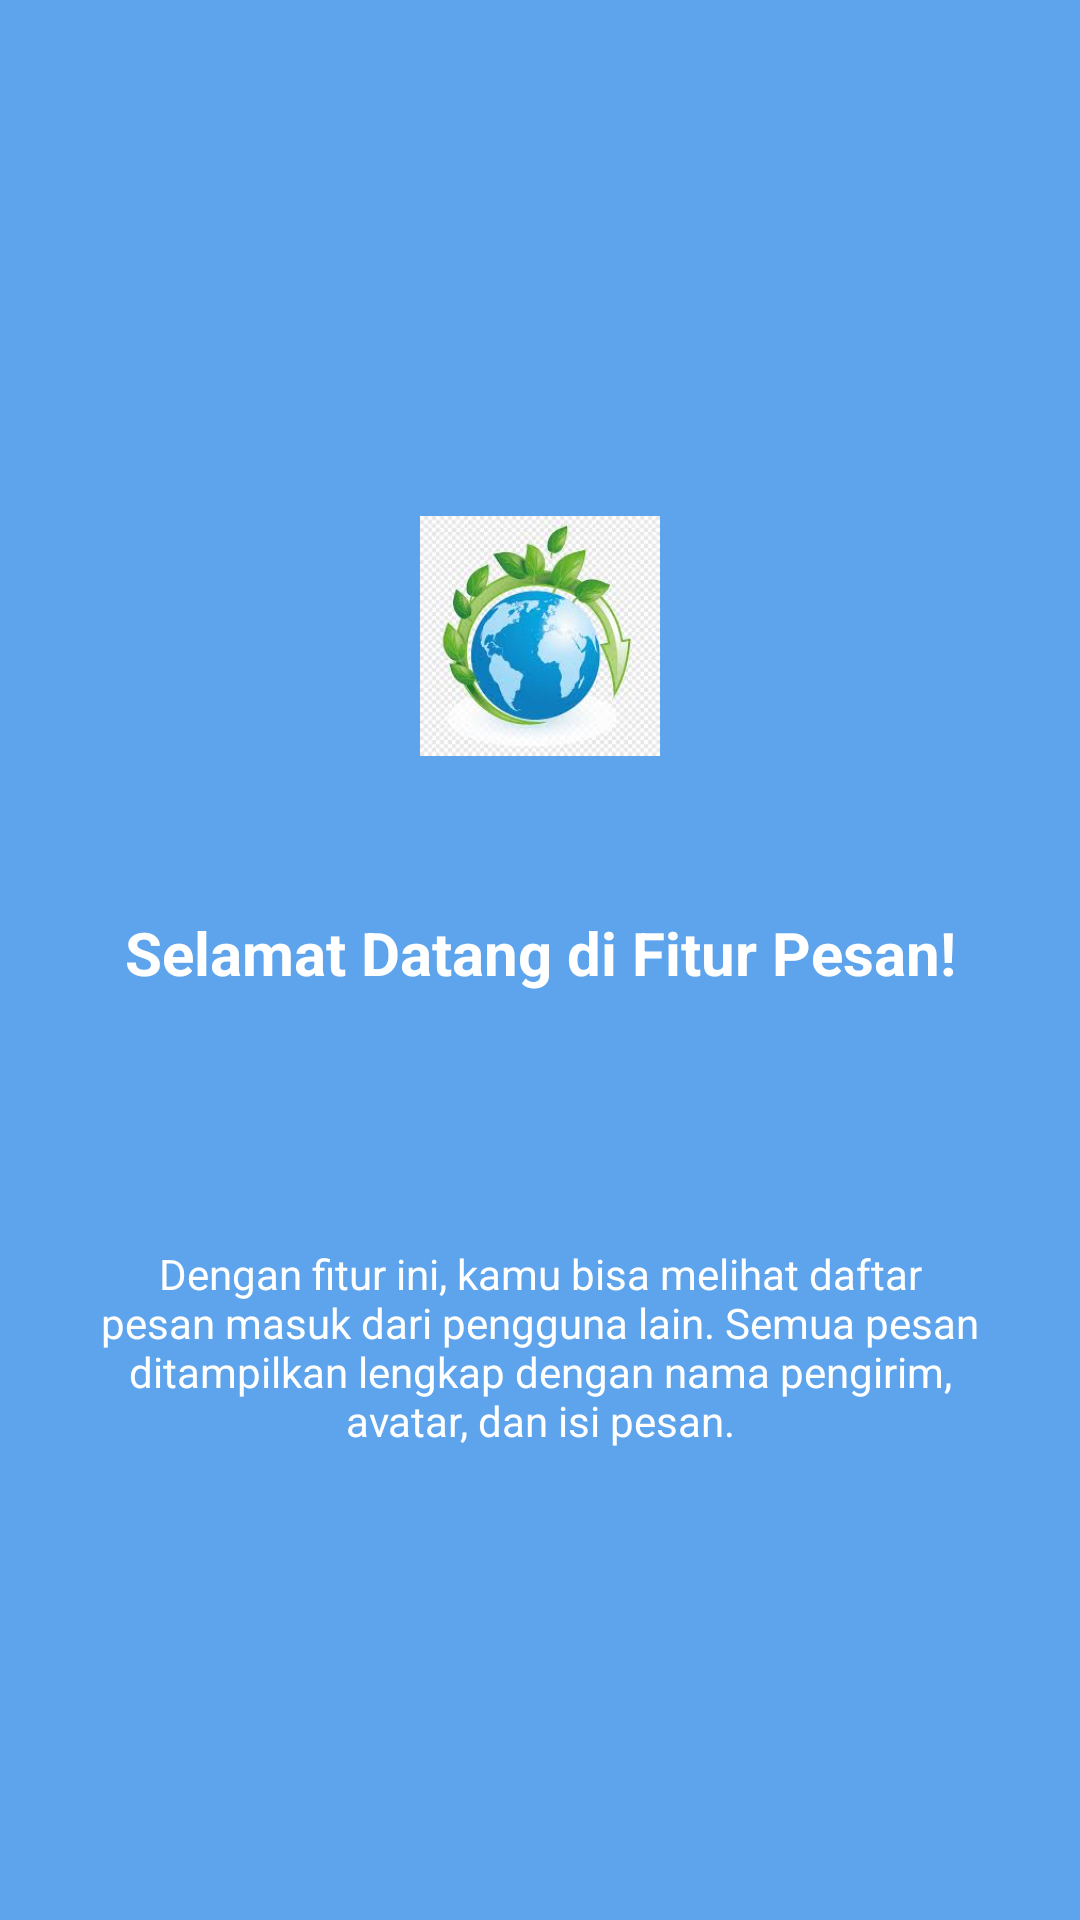

Named icons in this screenshot (1080x1920) and their centers, (x=x, y=y):
gambar: (x=540, y=636)
